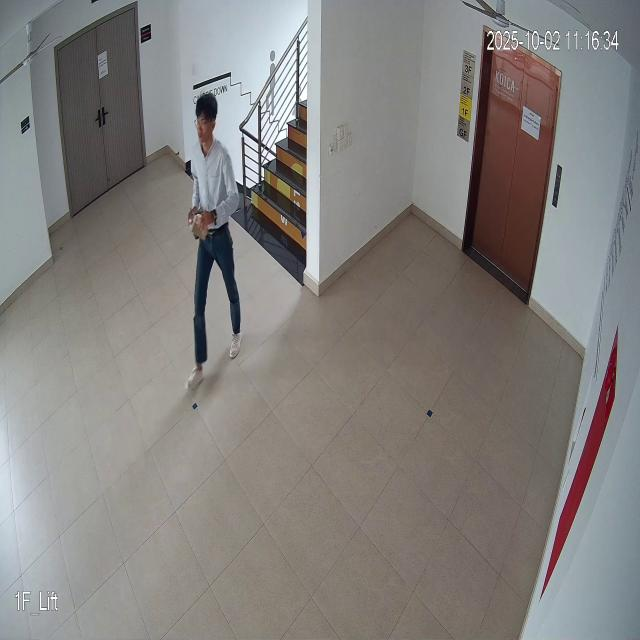face: (190, 93, 224, 149)
